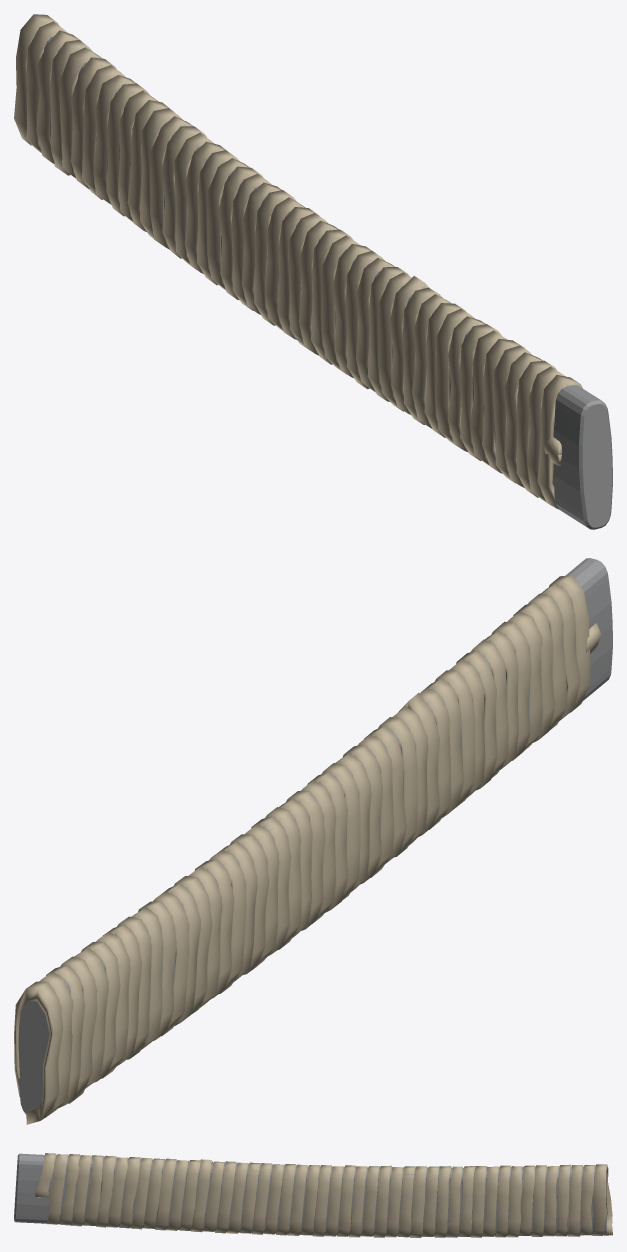
Rendered from hilt_beast.glb.
3 renders of one model, top to bottom at view 1: azimuth 30°, elevation 25°; view 2: azimuth 150°, elevation 25°; view 3: azimuth 270°, elevation 25°, orthographic. The views are drawn at different scales.
Visible parts, largest first — view 1: Hilt.005, Hilt; view 2: Hilt.005, Hilt; view 3: Hilt.005, Hilt.
Part boxes in pixels (x1=…): Hilt.005: x1=14, y1=14, x2=582, y2=509; Hilt: x1=35, y1=32, x2=612, y2=529; Hilt.005: x1=14, y1=575, x2=601, y2=1124; Hilt: x1=18, y1=558, x2=612, y2=1114; Hilt.005: x1=35, y1=1153, x2=612, y2=1237; Hilt: x1=14, y1=1153, x2=606, y2=1236.
Bounding box in the file's own units: 0.0238 × 0.0812 × 0.5272.
